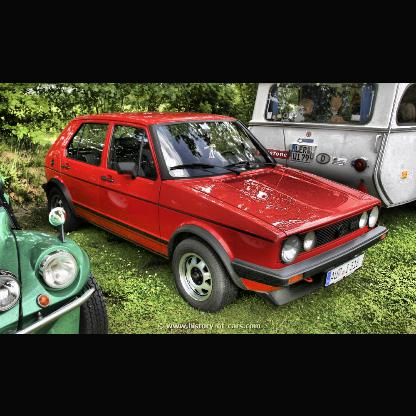Volkswagen Golf Hatchback 1991: (44, 114, 390, 314)
